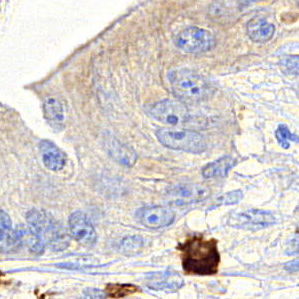Lymphocyte: (177, 234, 222, 275)
